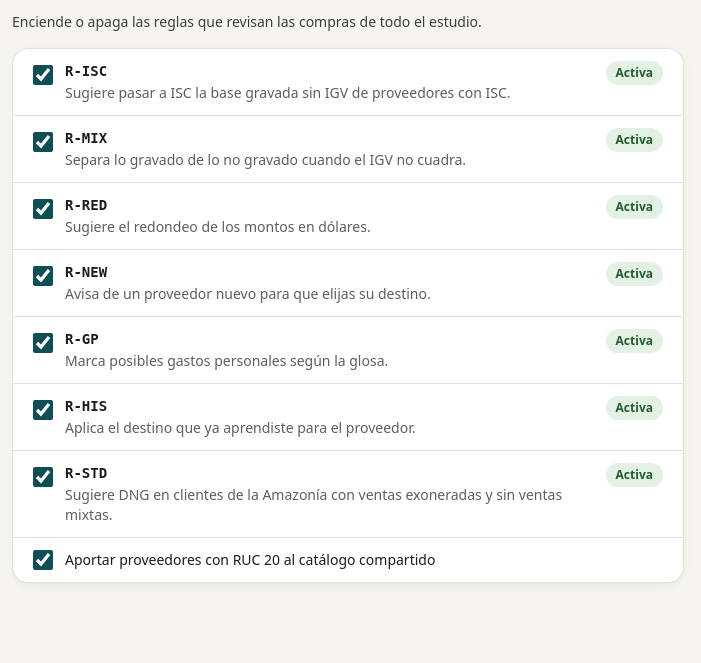
Test: <ReglasMotor /> · apagar y encender › error: un 403 muestra el mensaje genérico y el interruptor conserva su valor
Click the switch labelled "R-GP" at point(43, 343), box left=33, top=333, right=53, bottom=353
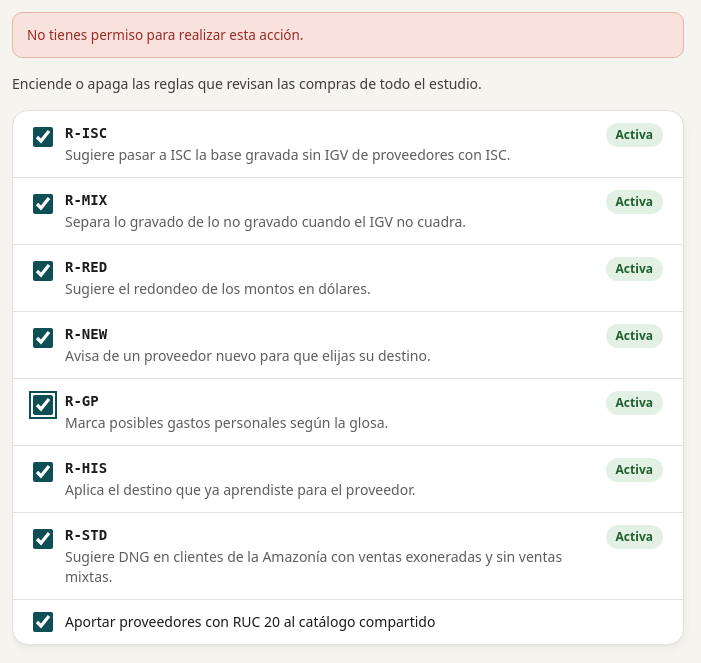
Now the message reads "No tienes permiso para realizar esta acción.", box left=27, top=26, right=304, bottom=44
